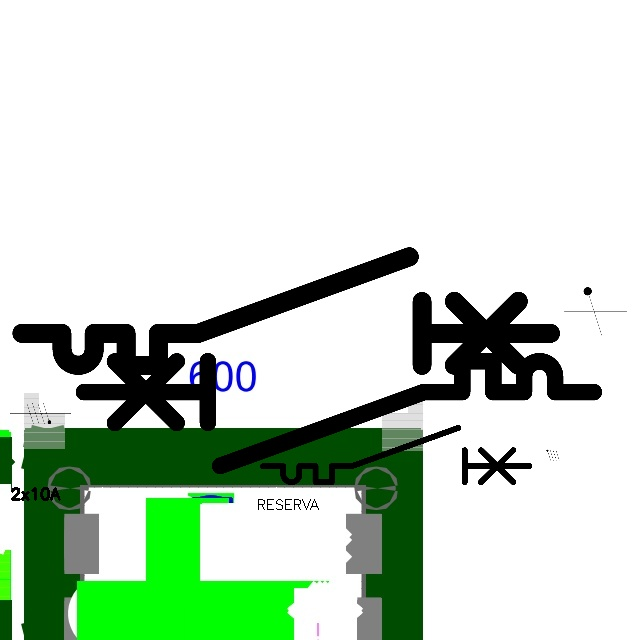interruptor_termomagnetico: (8, 243, 564, 379), (70, 348, 607, 479), (256, 421, 536, 489)
